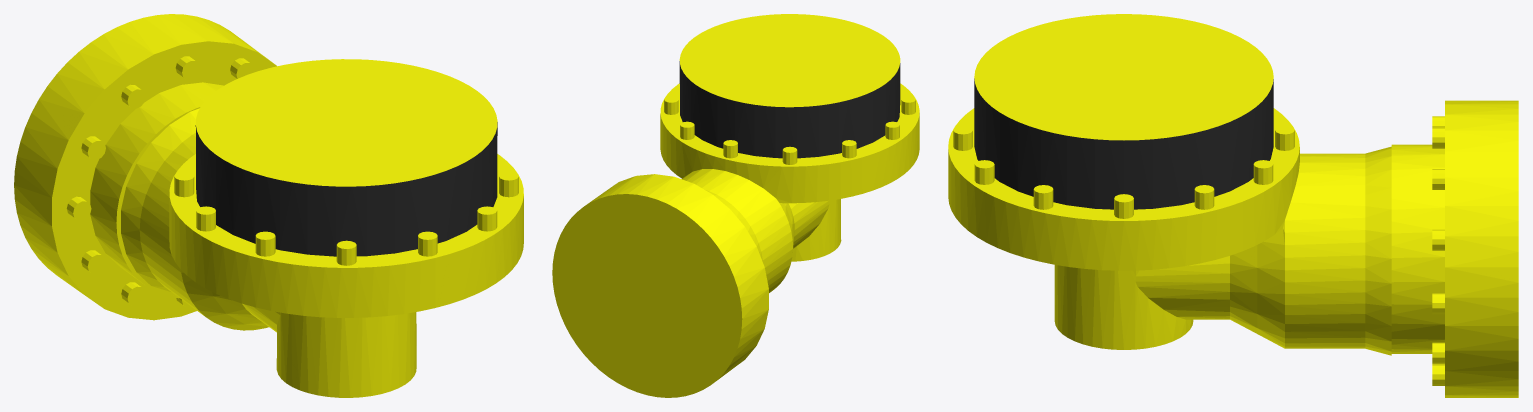
The picture shows the model from 3 angles, left to right: view 1: azimuth 30°, elevation 25°; view 2: azimuth 150°, elevation 25°; view 3: azimuth 270°, elevation 25°; orthographic projection. The views are drawn at different scales.
Parts seen in each view (by area): view 1: node; view 2: node; view 3: node.
Boxes of the visible parts, x1,y1,x2,y2 form: node: (14, 14, 523, 397); node: (552, 14, 919, 397); node: (948, 14, 1518, 397).
Size of the model in its own units: 244 by 237 by 396.
